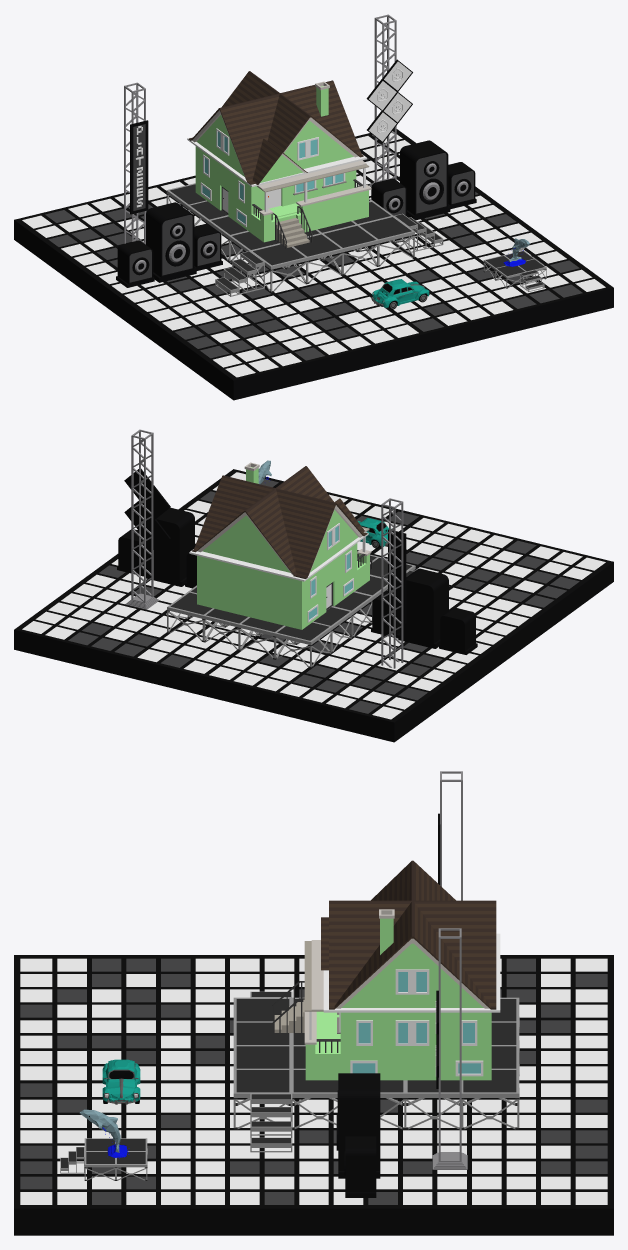
3 renders of one model, top to bottom at view 1: azimuth 30°, elevation 25°; view 2: azimuth 150°, elevation 25°; view 3: azimuth 270°, elevation 25°, orthographic. The views are drawn at different scales.
Visible parts, largest first — view 1: Cube.008, Cube.274, VEHICLES_VOLKSWAGEN; view 2: Cube.008, Cube.274, VEHICLES_VOLKSWAGEN; view 3: Cube.008, Cube.274, VEHICLES_VOLKSWAGEN, ANIMAL_DELFIN.
Boxes of the visible parts, x1,y1,x2,y2 form: Cube.008: (14,14,613,400); Cube.274: (187,71,371,248); VEHICLES_VOLKSWAGEN: (371,279,429,309); Cube.008: (14,429,613,742); Cube.274: (189,462,372,629); VEHICLES_VOLKSWAGEN: (358,518,391,548); Cube.008: (14,771,613,1235); Cube.274: (272,860,500,1080); VEHICLES_VOLKSWAGEN: (102,1059,140,1104); ANIMAL_DELFIN: (79,1109,129,1158).
Size of the model in its own units: 4000 by 1972 by 4000.
Materials: 35 (1 with a texture image).
